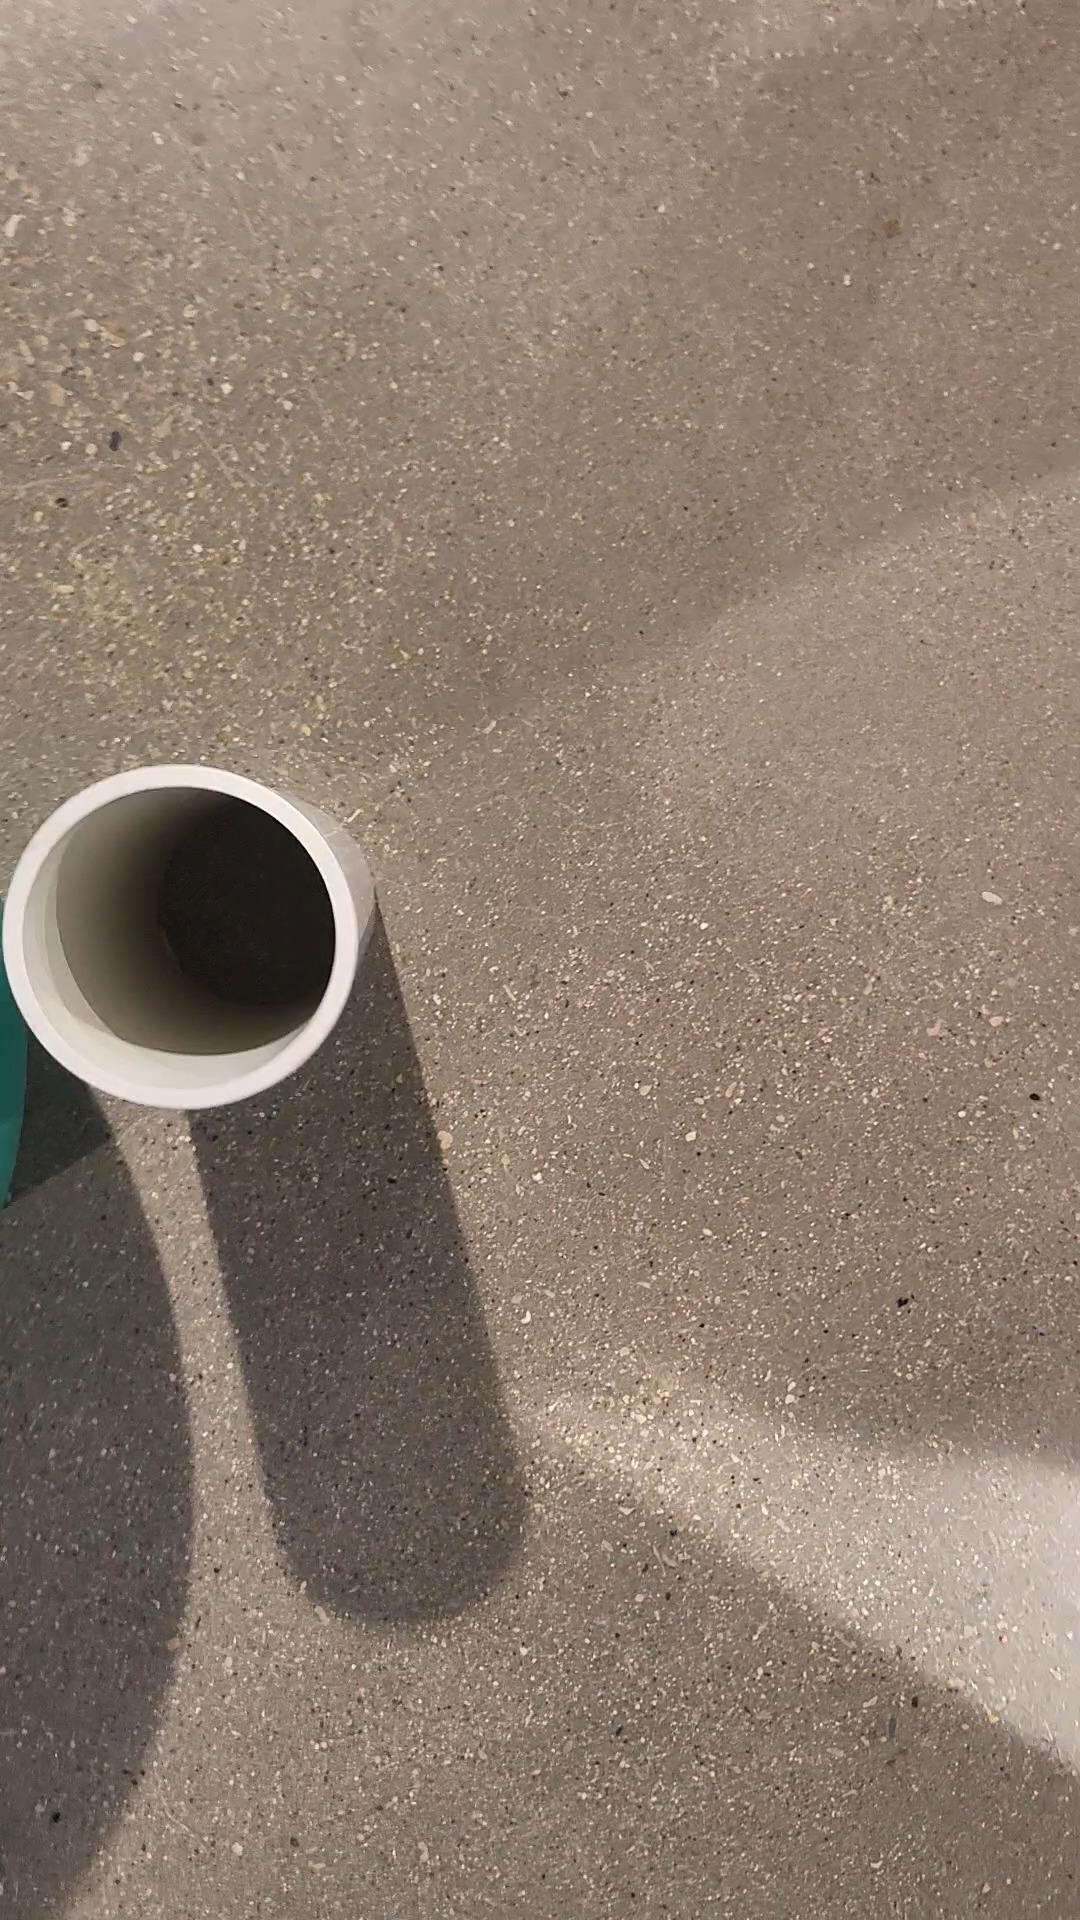coral: (0, 764, 372, 1112)
